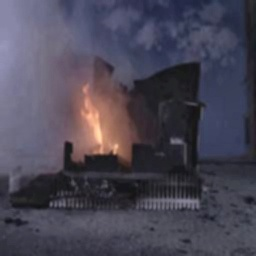fire: (69, 76, 123, 166)
smoke: (0, 0, 102, 97)
